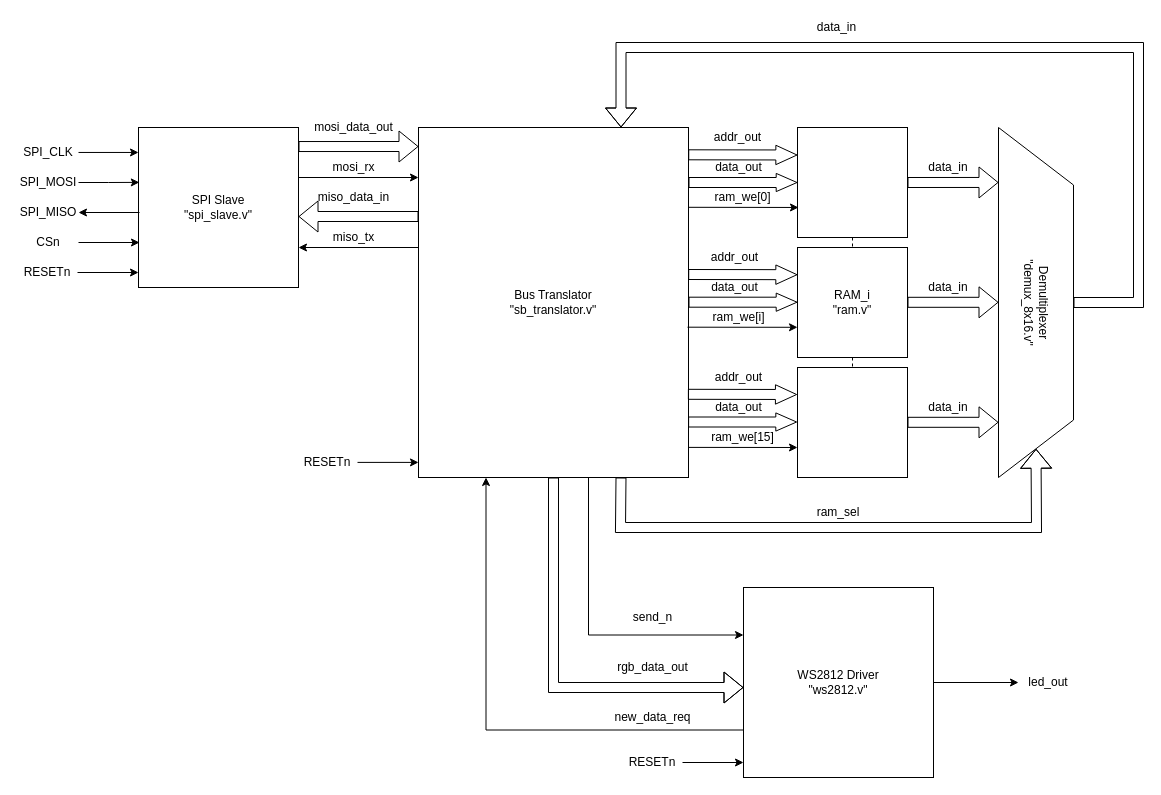
The diagram is 1161 pixels wide and 795 high, and some of its shapes have lost their labels. The shapes that lost their labels are listed below. From the top down, each one's centre as x and y in pixels, then its label:
pixel 852 182: RAM_0 "ram.v"
pixel 852 422: RAM_15 "ram.v"
